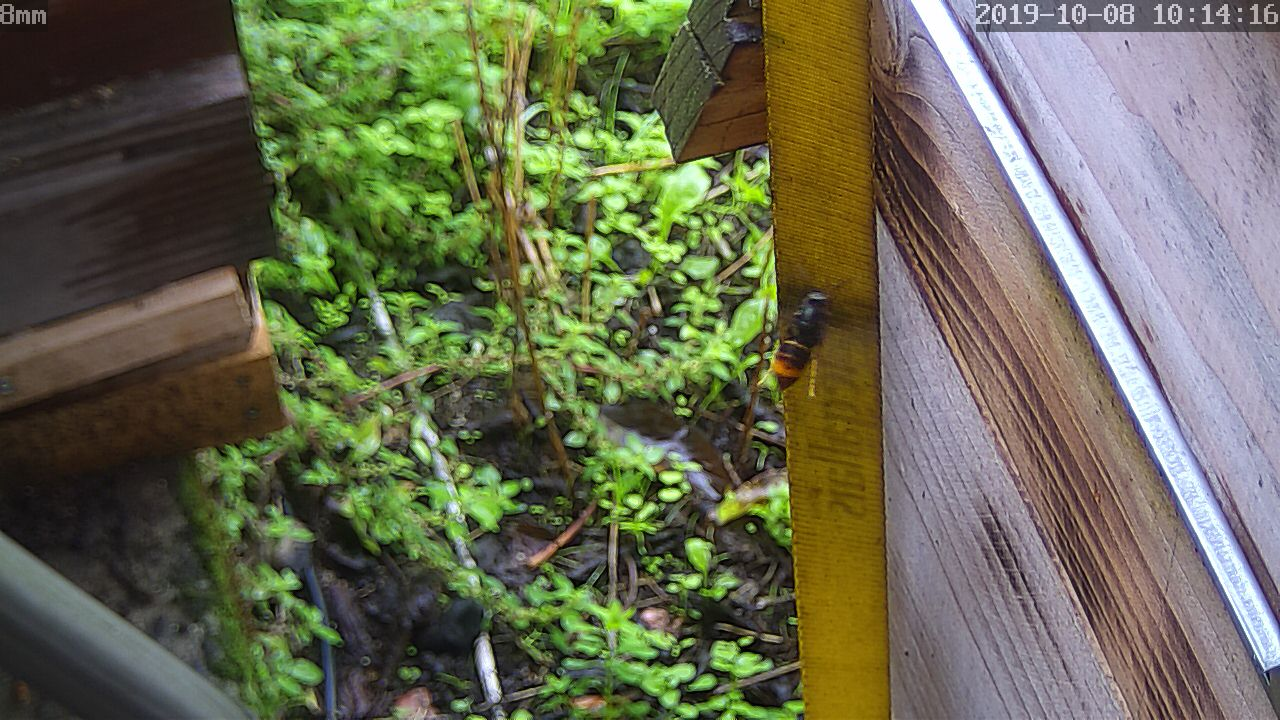hornet: (762, 282, 838, 391)
